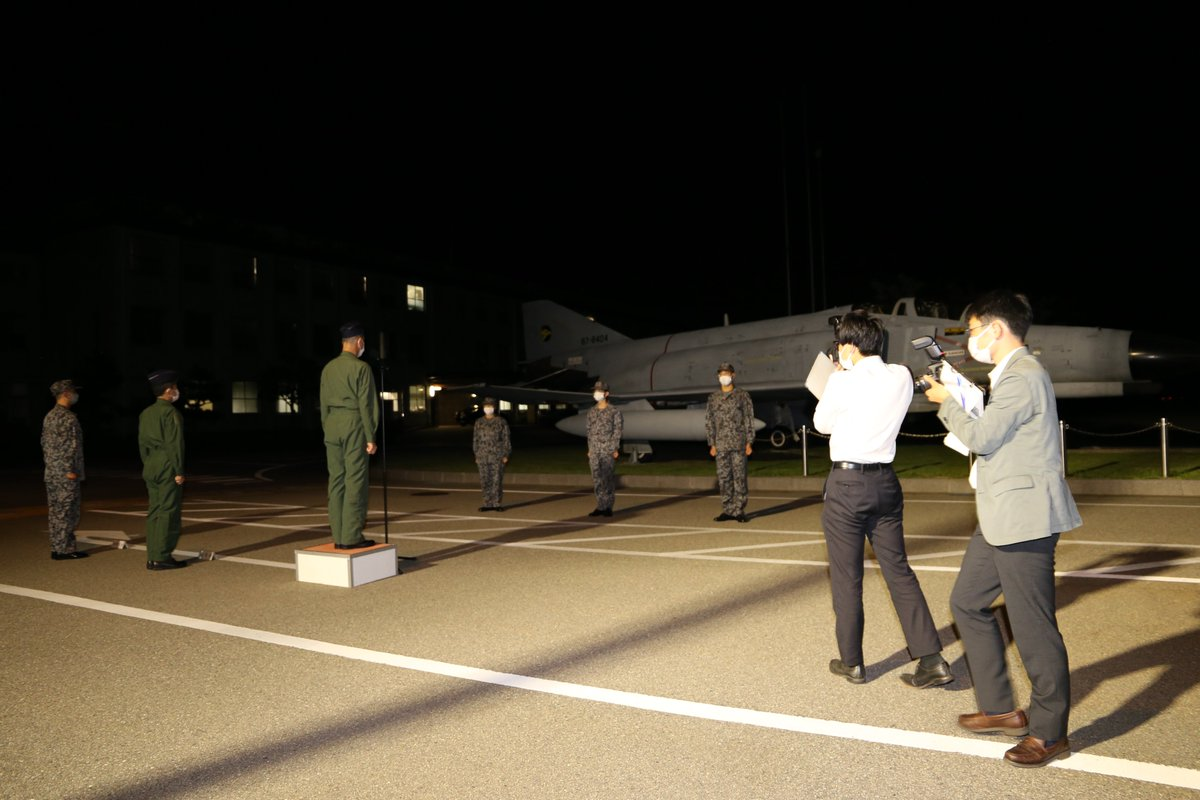F4: (445, 296, 1200, 463)
